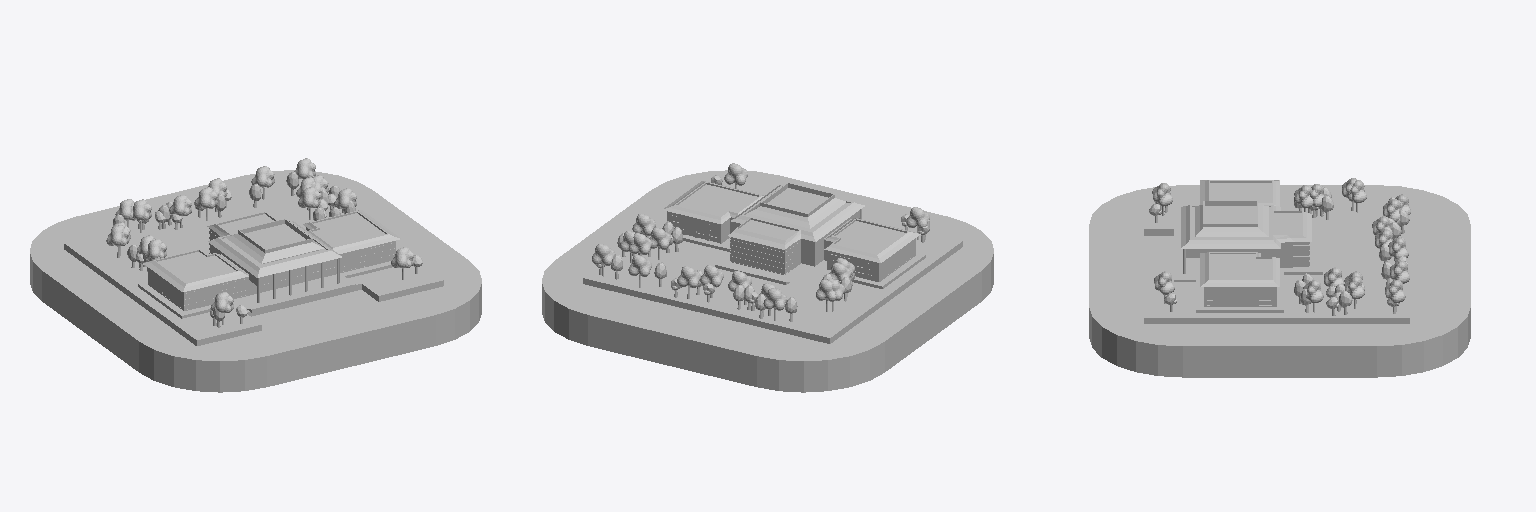
File: 1019-test-bake-3.obj
3 views of the same model, side by side, from view 1: azimuth 30°, elevation 25°; view 2: azimuth 150°, elevation 25°; view 3: azimuth 270°, elevation 25° (orthographic).
Parts seen in each view (by area): view 1: Cube.001, Cube.053, 底板.002, Cylinder.001, Cube.052; view 2: Cube.001, Cube.053, 底板.002, Cylinder.001, Cube.052; view 3: Cube.001, Cube.053, 底板.002, Cylinder.001, Cube.052.
Part boxes in pixels (bbox=[...]): Cube.001: bbox=[30, 170, 481, 392]; Cube.053: bbox=[143, 210, 400, 310]; 底板.002: bbox=[64, 185, 443, 345]; Cylinder.001: bbox=[106, 158, 422, 327]; Cube.052: bbox=[138, 247, 391, 318]; Cube.001: bbox=[542, 170, 993, 392]; Cube.053: bbox=[663, 181, 920, 281]; 底板.002: bbox=[583, 182, 962, 343]; Cylinder.001: bbox=[592, 163, 929, 321]; Cube.052: bbox=[661, 227, 925, 288]; Cube.001: bbox=[1089, 185, 1470, 377]; Cube.053: bbox=[1181, 180, 1311, 306]; 底板.002: bbox=[1144, 198, 1409, 323]; Cylinder.001: bbox=[1149, 178, 1410, 315]; Cube.052: bbox=[1174, 200, 1322, 312].
Bounding box in the file's own units: 18.84 × 4.46 × 18.84.